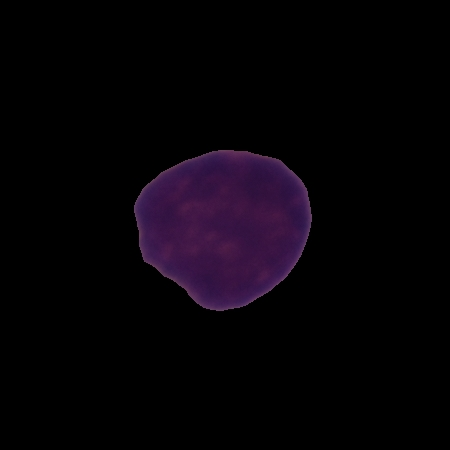HEM: (131, 145, 315, 314)
